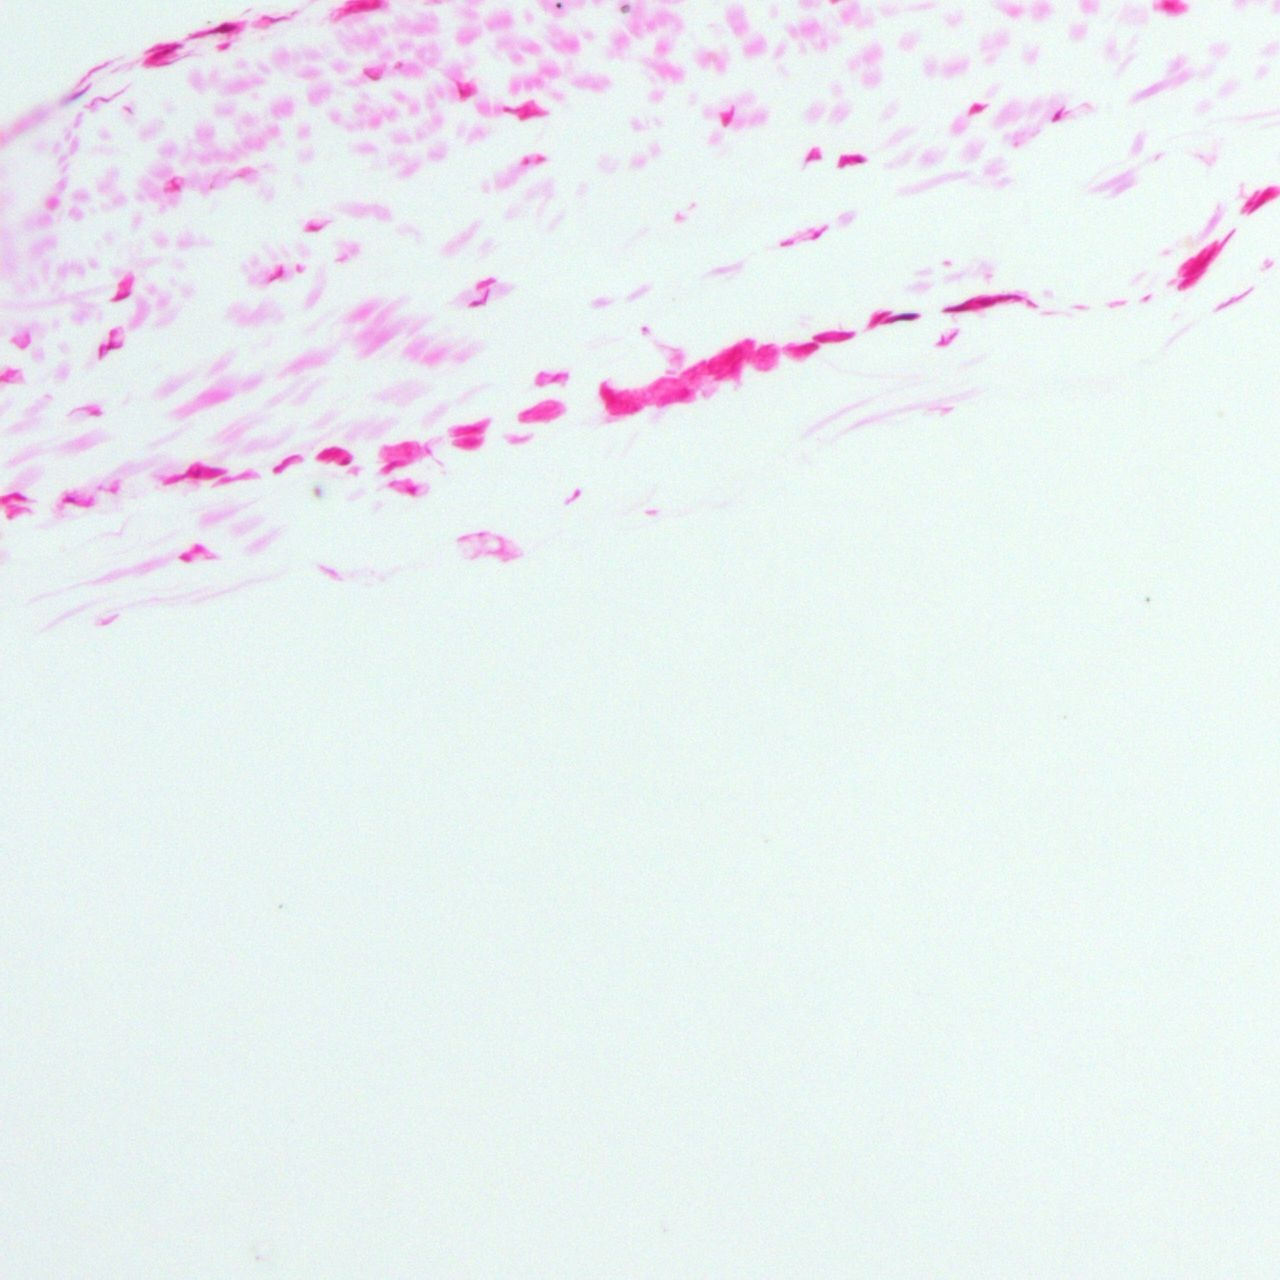dust: (311, 486, 324, 498), (620, 3, 628, 14), (1143, 595, 1150, 602)
nucleus-FG: (942, 288, 1015, 317), (159, 458, 225, 484), (94, 324, 129, 364), (1207, 228, 1235, 265), (1246, 184, 1274, 217), (142, 46, 173, 69), (315, 448, 351, 465), (270, 454, 296, 476), (1179, 268, 1202, 292), (868, 306, 891, 328), (811, 330, 856, 341), (1200, 245, 1219, 270), (206, 20, 237, 35), (146, 40, 180, 53), (451, 437, 485, 449), (838, 152, 865, 167), (450, 424, 486, 435), (1241, 190, 1258, 211), (454, 79, 470, 101), (887, 312, 920, 322), (0, 492, 28, 503), (968, 103, 986, 116), (110, 291, 131, 302), (403, 485, 417, 495), (1051, 111, 1062, 122), (60, 496, 75, 503)
